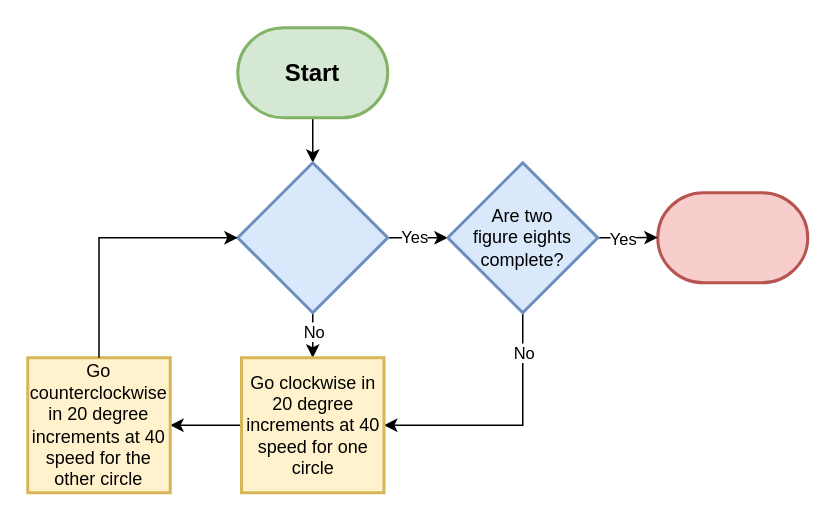
The diagram is 834 pixels wide and 519 high, and some of its shapes have lost their labels. Each missing label, with the box of its shape:
End: (656, 190, 808, 284)
Is one figure eight complete?: (236, 160, 388, 314)
